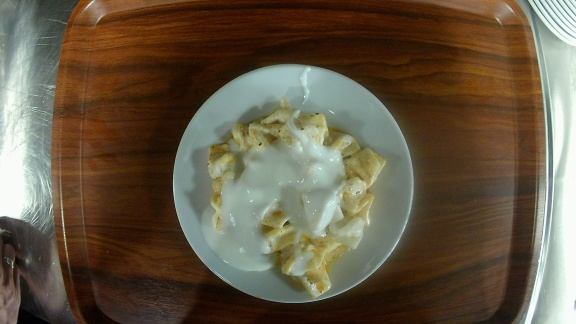manti: (167, 62, 417, 304)
